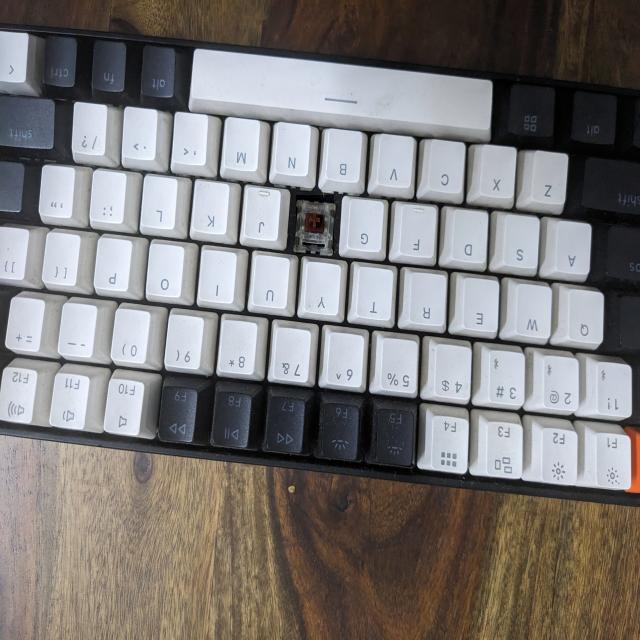C: (296, 195, 334, 254)
